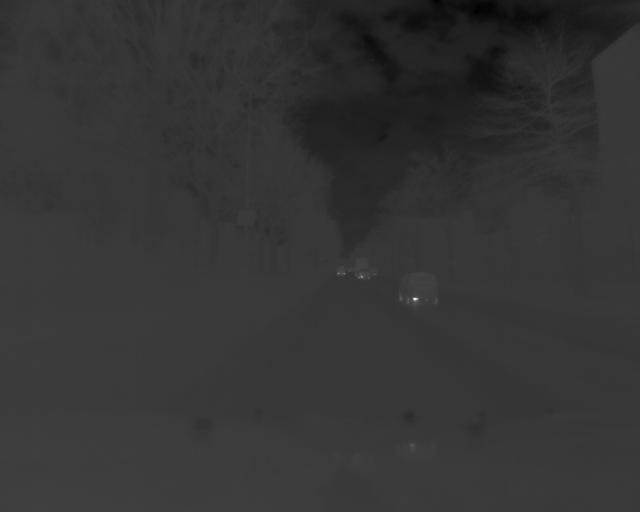car: (397, 266, 440, 307), (356, 268, 371, 282), (336, 264, 347, 277)
